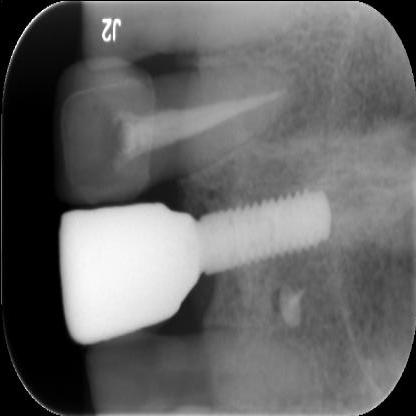ITI: (198, 160, 330, 288)
